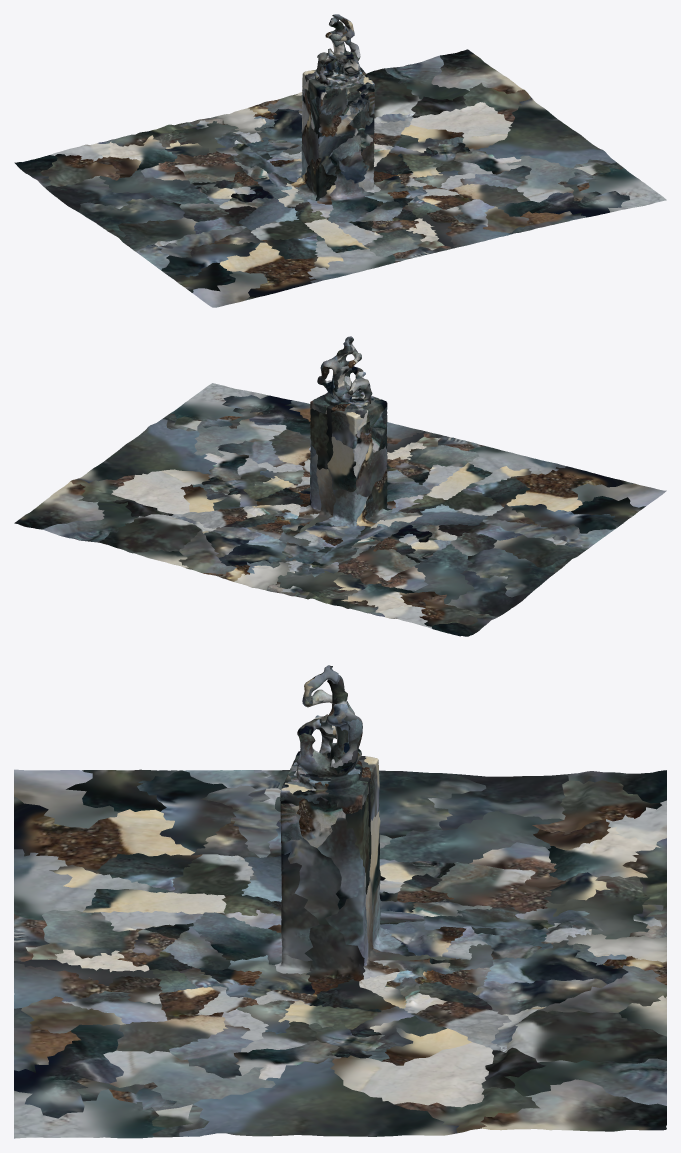
The model's file is the_sigh.obj.
3 renders of one model, top to bottom at view 1: azimuth 30°, elevation 25°; view 2: azimuth 150°, elevation 25°; view 3: azimuth 270°, elevation 25°, orthographic. The views are drawn at different scales.
Parts seen in each view (by area): view 1: Object; view 2: Object; view 3: Object.
Boxes of the visible parts, x1,y1,x2,y2 form: Object: (14, 14, 666, 307); Object: (14, 336, 666, 636); Object: (14, 665, 666, 1138).
Bounding box in the file's own units: 4.55 × 1.68 × 3.45.
